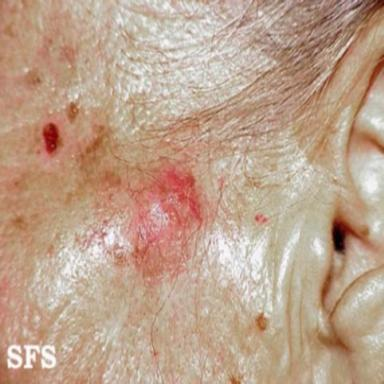basal-cell-carcinoma: (42, 122, 63, 157)
